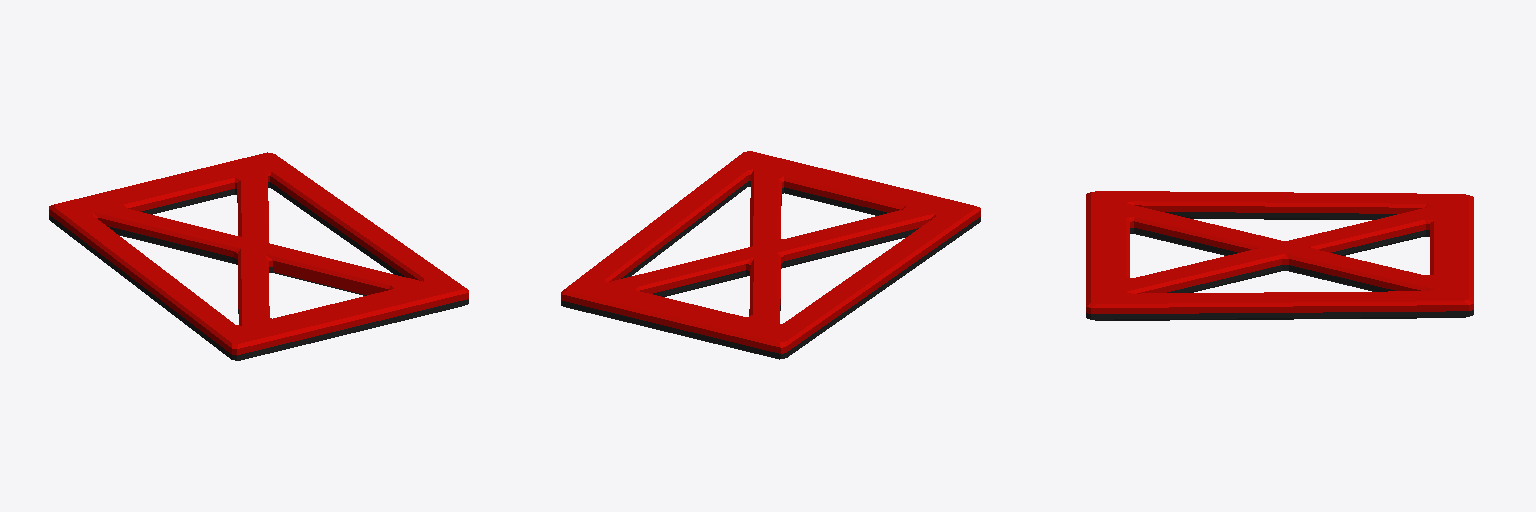
The model's file is curved_x.obj.
3 views of the same model, side by side, from view 1: azimuth 30°, elevation 25°; view 2: azimuth 150°, elevation 25°; view 3: azimuth 270°, elevation 25° (orthographic).
Visible parts, largest first — view 1: Text_X; view 2: Text_X; view 3: Text_X.
Boxes of the visible parts, x1,y1,x2,y2 form: Text_X: [49, 152, 468, 360]; Text_X: [561, 151, 980, 359]; Text_X: [1086, 191, 1473, 320].
Size of the model in its own units: 0.9087 by 0.0623 by 1.28.